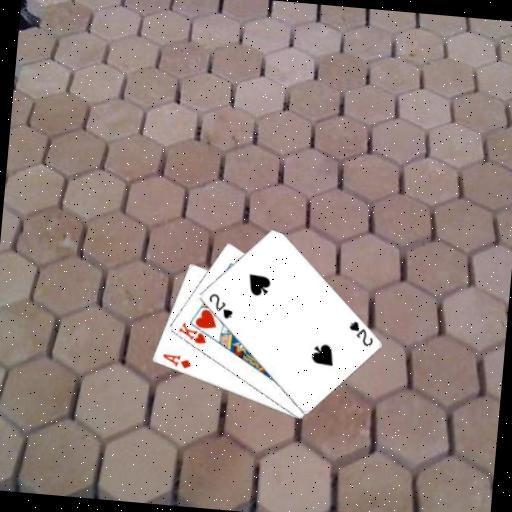2S: (204, 290, 236, 322), (344, 318, 376, 349)
AD: (158, 351, 193, 371)
KH: (174, 318, 209, 346)
